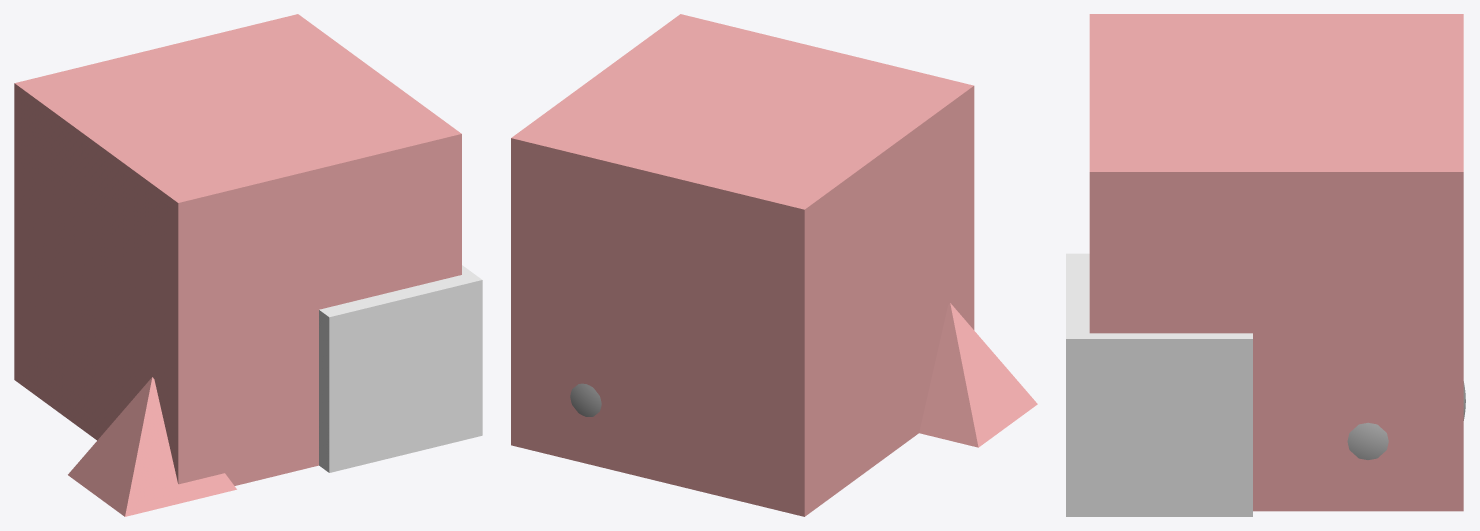
File: background.FBX
3 renders of one model, left to right at view 1: azimuth 30°, elevation 25°; view 2: azimuth 150°, elevation 25°; view 3: azimuth 270°, elevation 25°, orthographic. The views are drawn at different scales.
Visible parts, largest first — view 1: Box001, Box002, Pyramid001; view 2: Box001, Pyramid001, Sphere003; view 3: Box001, Box002, Sphere003.
Part boxes in pixels (x1,y1,x2,y2): Box001: (14, 14, 461, 485); Box002: (319, 265, 482, 472); Pyramid001: (68, 377, 236, 516); Box001: (511, 14, 974, 516); Pyramid001: (919, 303, 1037, 447); Sphere003: (570, 383, 601, 416); Box001: (1089, 14, 1463, 511); Box002: (1066, 253, 1252, 516); Sphere003: (1347, 381, 1465, 459).
Bounding box in the file's own units: 1239 × 1069 × 1056.
